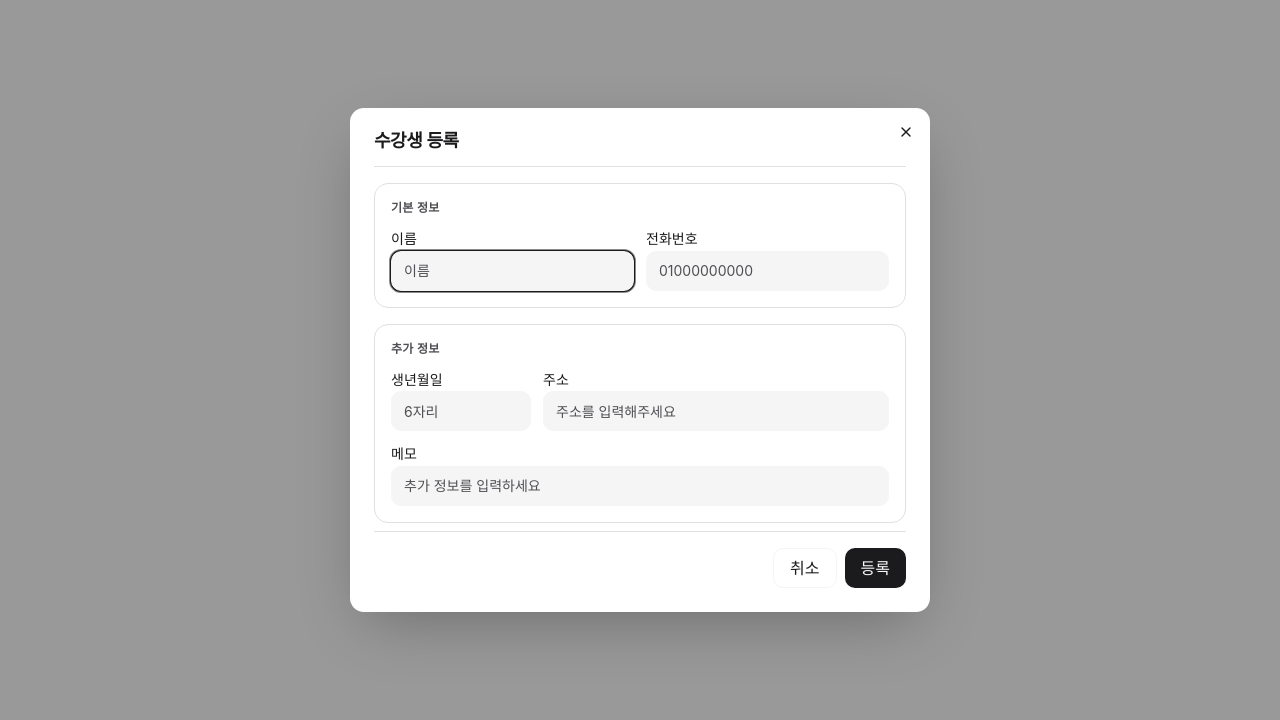
Test: StudentForm › name and phone are required fields
# Click submit without filling anything
Click the button "등록": x=875, y=568 [844, 548, 906, 588]
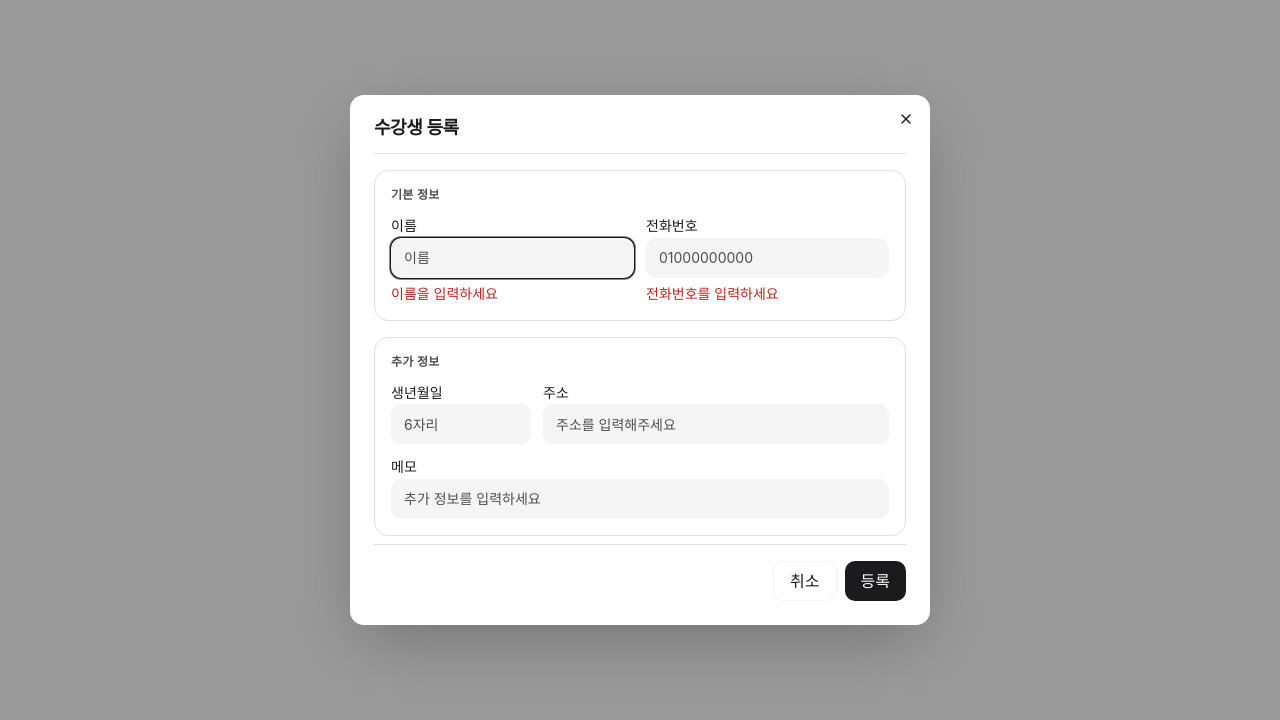
Check: the text "전화번호를 입력하세요" is shown, box [646, 284, 779, 302]
